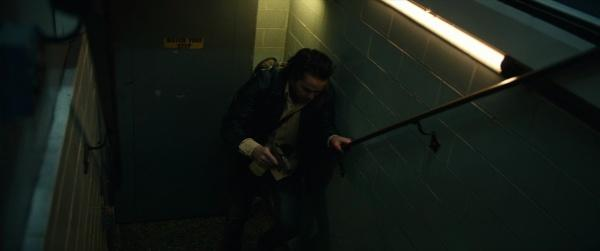Gun: (269, 144, 292, 173)
